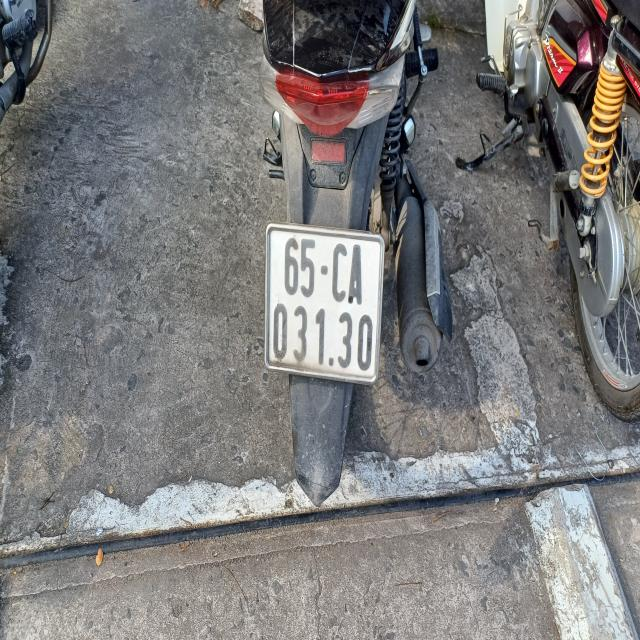0: (358, 312, 372, 372), (274, 302, 287, 360)
1: (313, 304, 325, 363)
3: (292, 303, 310, 364), (337, 311, 352, 373)
5: (300, 235, 314, 297)
6: (285, 237, 299, 298)
A: (349, 244, 363, 306)
C: (331, 242, 348, 302)
